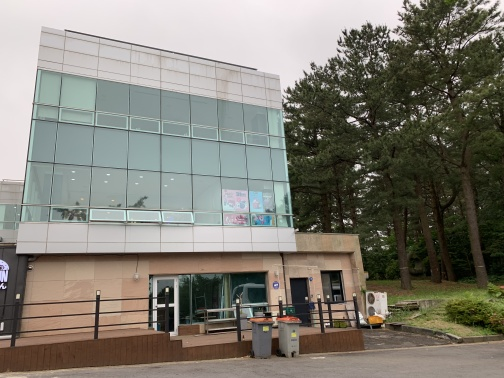Global House: (27, 21, 369, 360)
